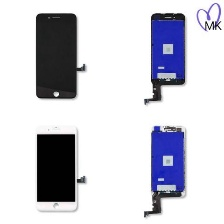phone: (33, 121, 79, 213), (33, 9, 78, 101), (146, 11, 189, 89), (148, 122, 188, 201)
